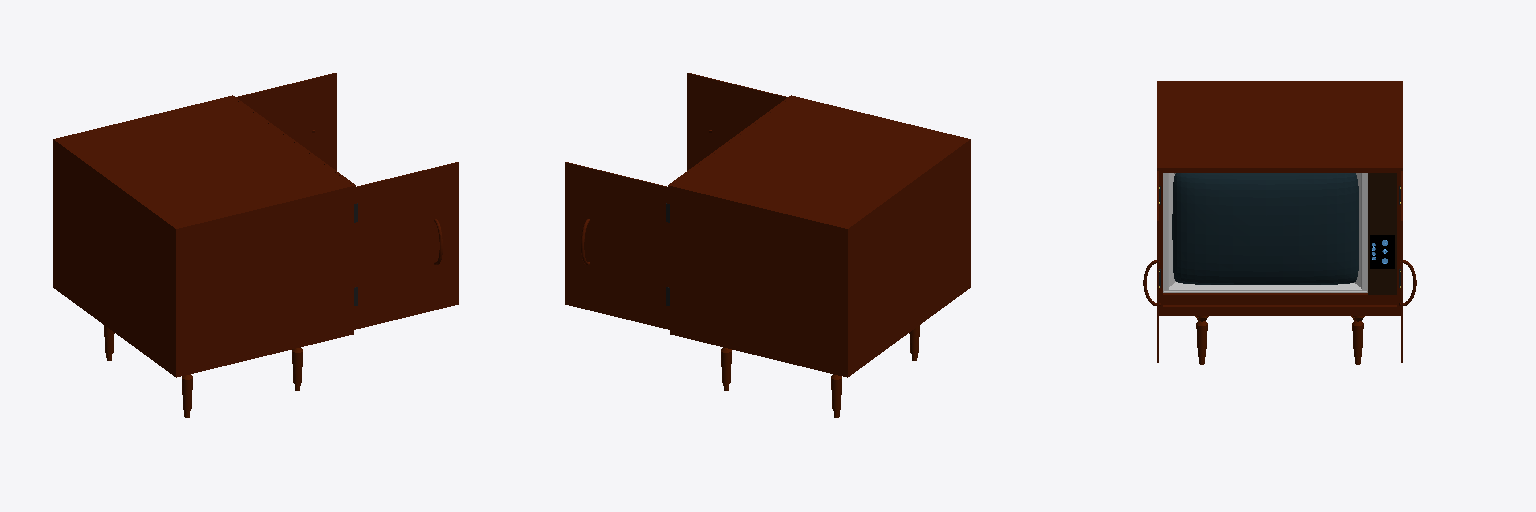
3 views of the same model, side by side, from view 1: azimuth 30°, elevation 25°; view 2: azimuth 150°, elevation 25°; view 3: azimuth 270°, elevation 25° (orthographic).
Parts seen in each view (by area): view 1: TV_Tv, TV_Door_TV_DOOR, Cylinder; view 2: TV_Tv, TV_Door_TV_DOOR, Cylinder; view 3: TV_Tv, TV.001_Tv.001, TV_Door_TV_DOOR, Cylinder.
Part boxes in pixels (x1,y1,x2,y2): TV_Tv: (53, 95, 357, 377); TV_Door_TV_DOOR: (236, 73, 458, 329); Cylinder: (104, 325, 302, 417); TV_Tv: (666, 95, 970, 377); TV_Door_TV_DOOR: (565, 73, 787, 329); Cylinder: (721, 325, 919, 417); TV_Tv: (1157, 81, 1402, 315); TV.001_Tv.001: (1172, 173, 1358, 284); TV_Door_TV_DOOR: (1143, 171, 1416, 362); Cylinder: (1195, 316, 1364, 364).
Bounding box in the file's own units: 3.18 × 2.29 × 2.67.